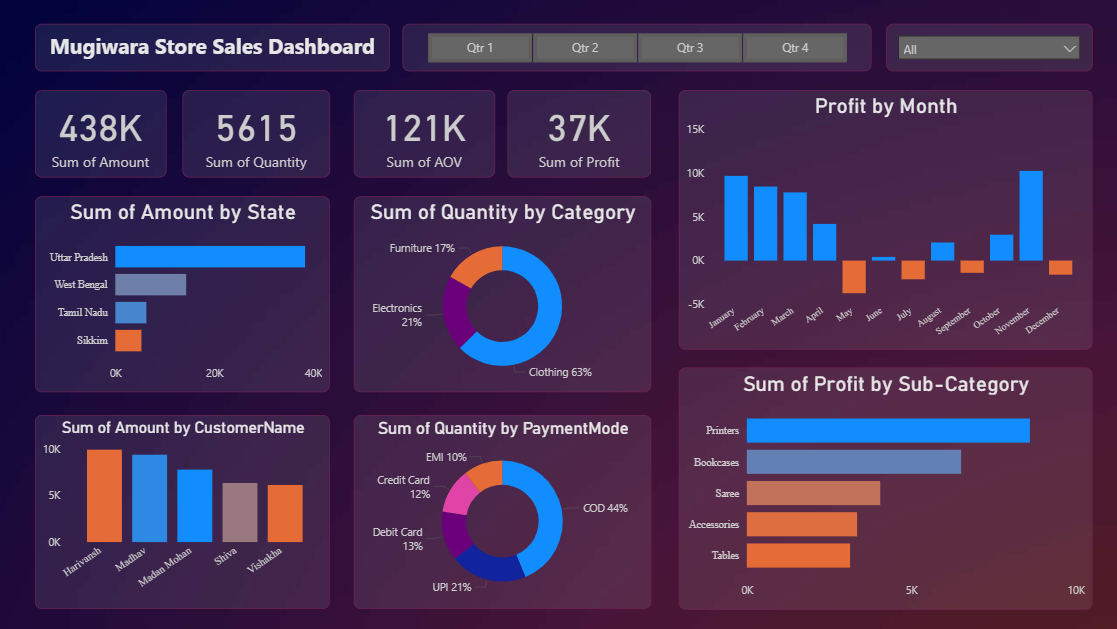

The page's visual inventory and layout, read from the dashboard file:
{"tool":"powerbi","page":{"name":"Page 1","canvas":[1280,720],"ordinal":0},"visuals":[{"type":"columnChart","title":"Profit by Month","fields":{"Category":["orders.Order Date.Variation.Date Hierarchy.Month"],"Y":["details.Profit"]},"box":[775.7,102.9,472.9,297.1],"z":0},{"type":"textbox","box":[40,27.1,405.7,54.3],"z":1000},{"type":"barChart","fields":{"Y":["details.Profit"],"Category":["details.Sub-Category"]},"box":[775.7,420,472.9,277.1],"z":2000},{"type":"donutChart","fields":{"Category":["details.Category"],"Y":["details.Quantity"]},"box":[404.3,224.3,340,224.3],"z":3000},{"type":"donutChart","fields":{"Category":["details.PaymentMode"],"Y":["details.Quantity"]},"box":[404.3,474.3,340,221.4],"z":4000},{"type":"card","fields":{"Values":["details.Quantity"]},"box":[208.6,102.9,168.6,100],"z":5000},{"type":"card","fields":{"Values":["details.AOV"]},"box":[404.3,102.9,161.4,100],"z":6000},{"type":"card","fields":{"Values":["details.Profit"]},"box":[580,102.9,164.3,100],"z":7000},{"type":"card","fields":{"Values":["details.Amount"]},"box":[40,102.9,150,100],"z":8000},{"type":"barChart","fields":{"Y":["details.Amount"],"Category":["orders.State"]},"box":[40,224.3,337.1,224.3],"z":9000},{"type":"columnChart","fields":{"Category":["orders.CustomerName"],"Y":["details.Amount"]},"box":[40,474.3,337.1,221.4],"z":10000},{"type":"slicer","fields":{"Values":["orders.Order Date.Variation.Date Hierarchy.Quarter"]},"box":[460,27.1,535.7,54.3],"z":11000},{"type":"slicer","fields":{"Values":["orders.State"]},"box":[1012.9,27.1,235.7,54.3],"z":12000}]}

Visuals, with their boxes in screenshot pixels (x1, y1, x2, y2), scaled from the page's 1280x720 canvas onto the 1117x629 screenshot:
"Profit by Month" columnChart: rect(677, 90, 1090, 349)
textbox: rect(35, 24, 389, 71)
barChart - details.Profit x details.Sub-Category: rect(677, 367, 1090, 609)
donutChart - details.Category x details.Quantity: rect(353, 196, 650, 392)
donutChart - details.PaymentMode x details.Quantity: rect(353, 414, 650, 608)
card - details.Quantity: rect(182, 90, 329, 177)
card - details.AOV: rect(353, 90, 494, 177)
card - details.Profit: rect(506, 90, 650, 177)
card - details.Amount: rect(35, 90, 166, 177)
barChart - details.Amount x orders.State: rect(35, 196, 329, 392)
columnChart - orders.CustomerName x details.Amount: rect(35, 414, 329, 608)
slicer - orders.Order Date.Variation.Date Hierarchy.Quarter: rect(401, 24, 869, 71)
slicer - orders.State: rect(884, 24, 1090, 71)
